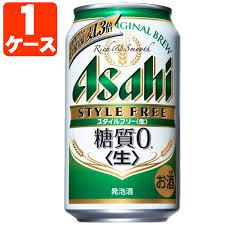beer: (66, 4, 181, 223)
